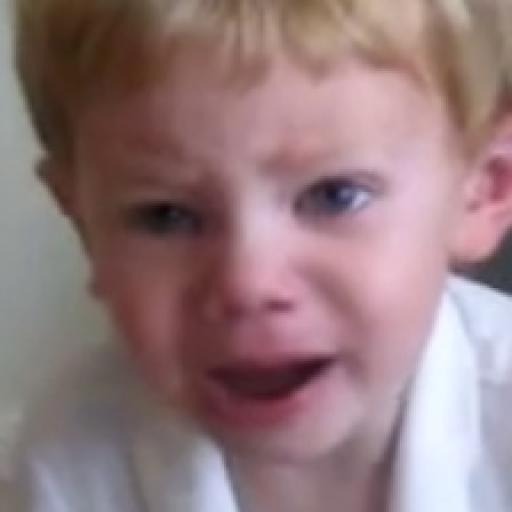Autism: (38, 22, 460, 468)
